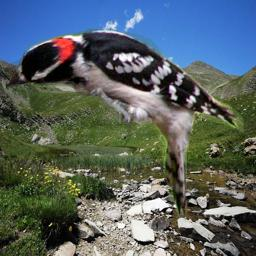Woodpecker: (6, 27, 246, 223)
